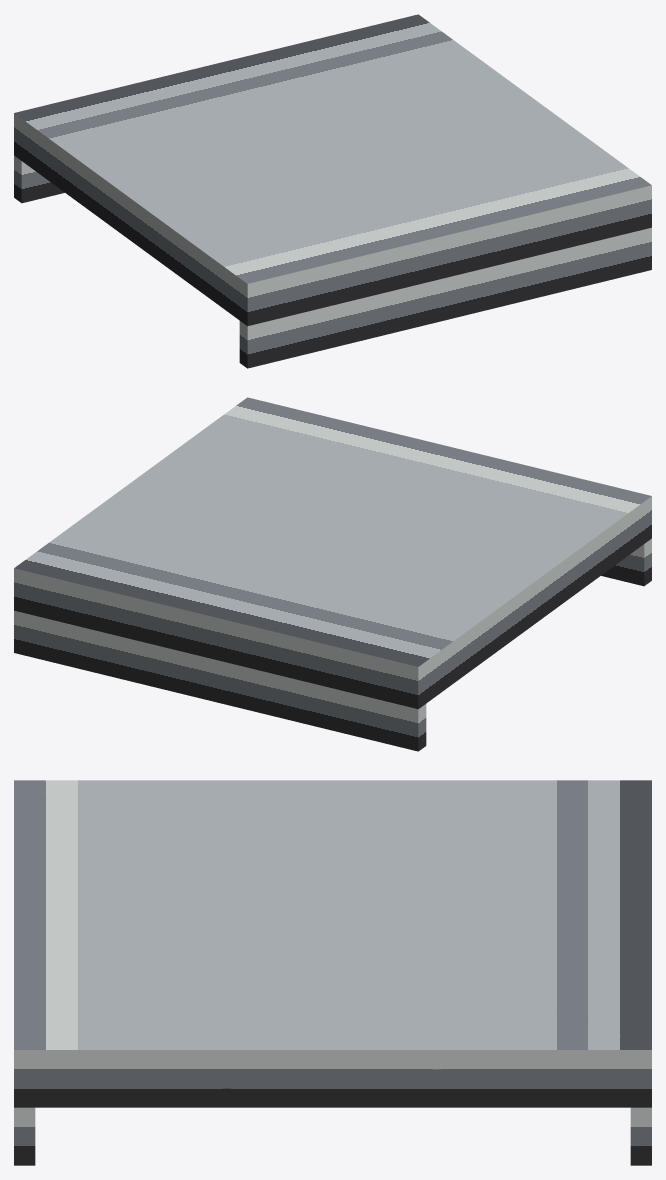
File: reinforced_table_top_straight.glb
3 renders of one model, top to bottom at view 1: azimuth 30°, elevation 25°; view 2: azimuth 150°, elevation 25°; view 3: azimuth 270°, elevation 25°, orthographic. The views are drawn at different scales.
Visible parts, largest first — view 1: reinforced_table_top_straight; view 2: reinforced_table_top_straight; view 3: reinforced_table_top_straight.
Part boxes in pixels (x1=…): reinforced_table_top_straight: x1=14, y1=14, x2=651, y2=368; reinforced_table_top_straight: x1=14, y1=397, x2=651, y2=751; reinforced_table_top_straight: x1=14, y1=780, x2=651, y2=1165.
Bounding box in the file's own units: 0.9 × 0.18 × 0.9.
Materials: 1 (1 with a texture image).
